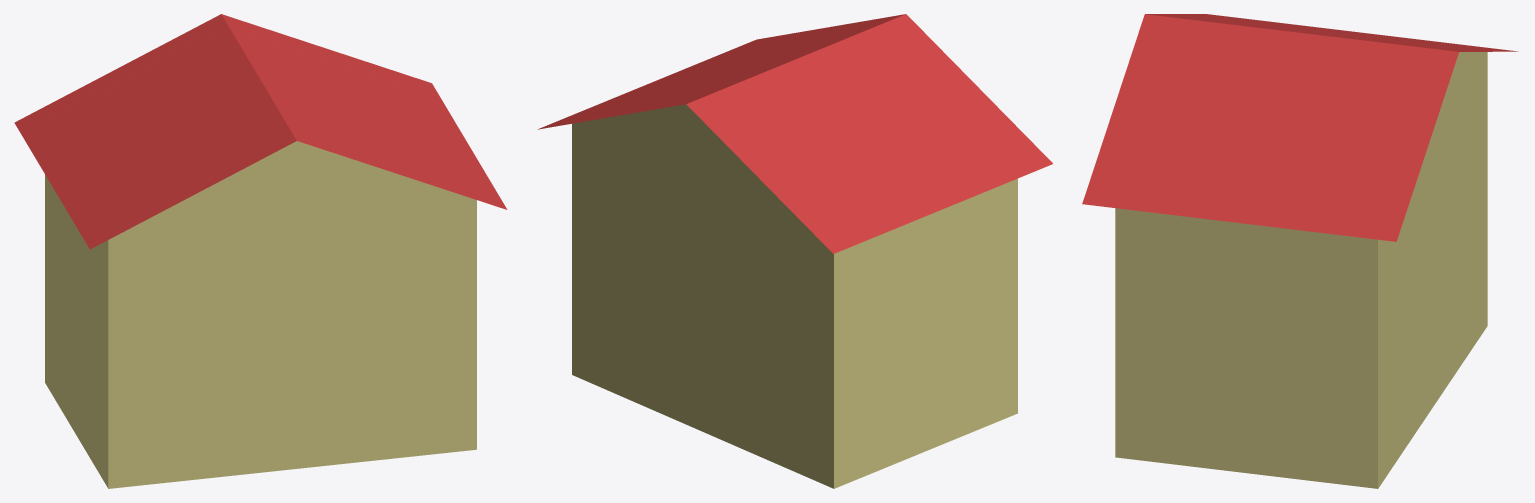
3 views of the same model, side by side, from view 1: azimuth 30°, elevation 25°; view 2: azimuth 150°, elevation 25°; view 3: azimuth 270°, elevation 25° (orthographic). The views are drawn at different scales.
Bounding box in the file's own units: 14.73 × 12.27 × 11.04.
